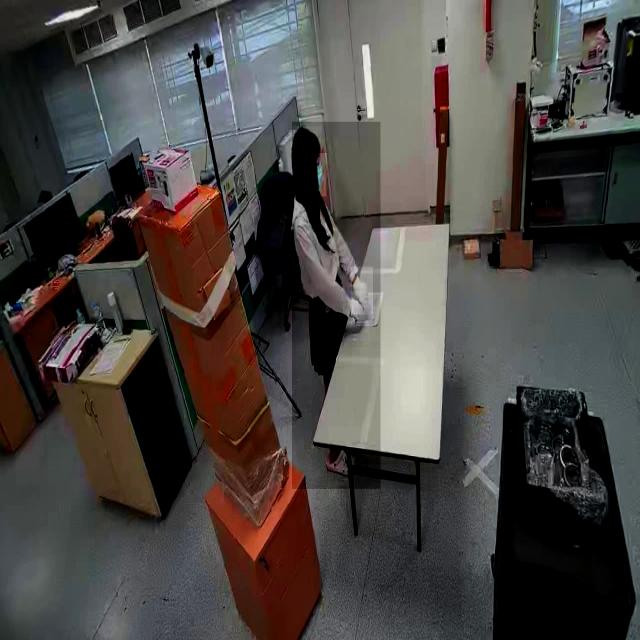face_mask: (342, 291, 370, 342), (351, 266, 373, 314), (312, 153, 326, 196)
head_nohelmet: (292, 126, 322, 153)
person: (292, 122, 381, 490)
